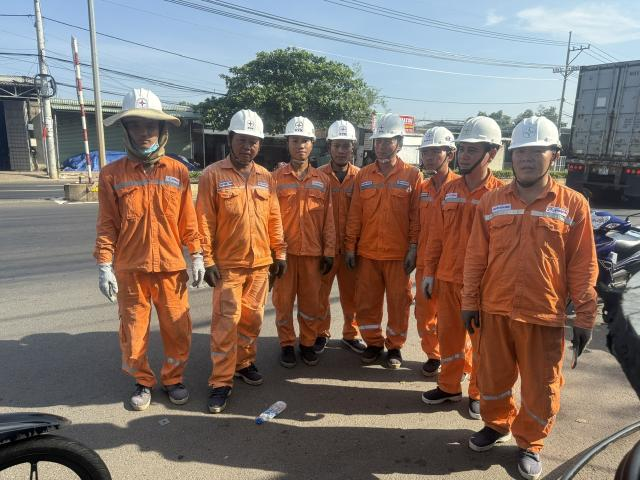gloves: (92, 262, 123, 304), (567, 318, 596, 359), (200, 256, 227, 293), (460, 302, 484, 338), (185, 254, 205, 288), (419, 269, 437, 304), (341, 247, 363, 273), (403, 244, 420, 275), (318, 252, 335, 279), (274, 252, 288, 282)
helmet: (110, 78, 176, 127), (504, 112, 566, 157), (220, 102, 274, 148), (457, 115, 509, 152), (158, 371, 196, 416), (413, 120, 456, 153), (282, 109, 324, 142), (418, 378, 464, 408), (366, 107, 403, 144), (471, 418, 511, 452), (232, 354, 267, 389), (126, 376, 161, 410), (519, 442, 550, 480), (324, 114, 362, 142), (208, 376, 234, 416), (466, 389, 486, 424), (419, 351, 442, 378), (358, 339, 382, 364), (279, 339, 297, 370), (386, 345, 405, 371), (339, 335, 364, 354), (303, 341, 320, 367), (317, 330, 330, 357)
